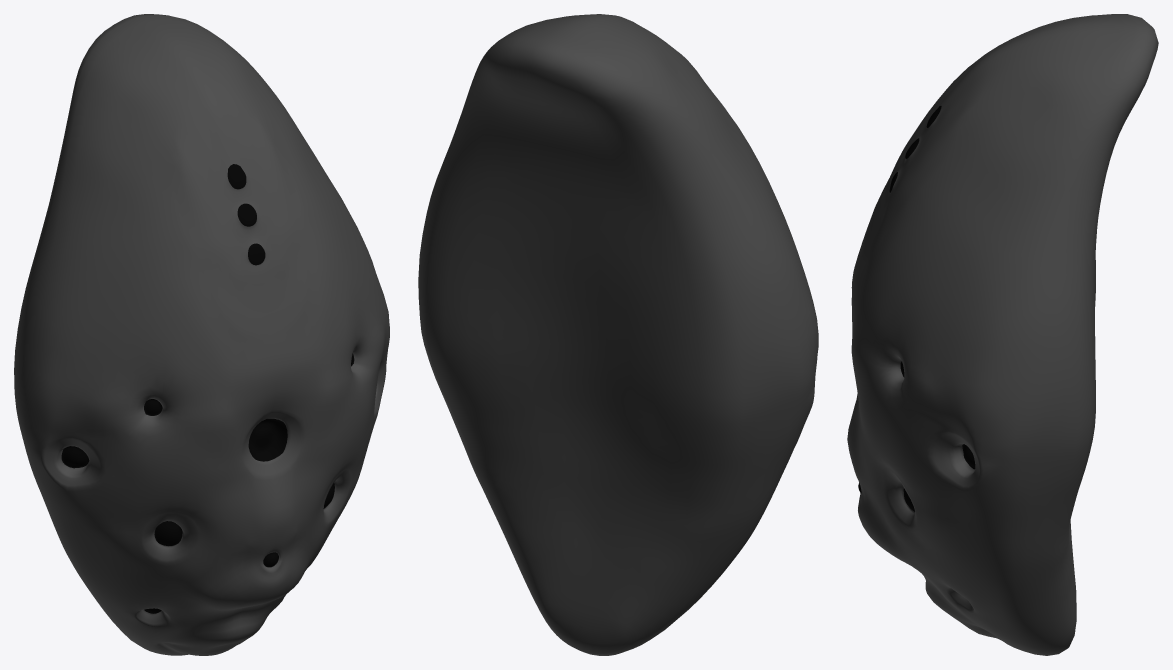
Rendered from mask3.fbx.
3 renders of one model, left to right at view 1: azimuth 30°, elevation 25°; view 2: azimuth 150°, elevation 25°; view 3: azimuth 270°, elevation 25°, orthographic. The views are drawn at different scales.
Visible parts, largest first — view 1: Mask; view 2: Mask; view 3: Mask.
Part boxes in pixels (x1,y1,x2,y2): Mask: (14, 14, 389, 655); Mask: (418, 14, 818, 655); Mask: (847, 14, 1158, 655).
Size of the model in its own units: 9.27 by 15.03 by 6.79.
1 material, 1 textured.
